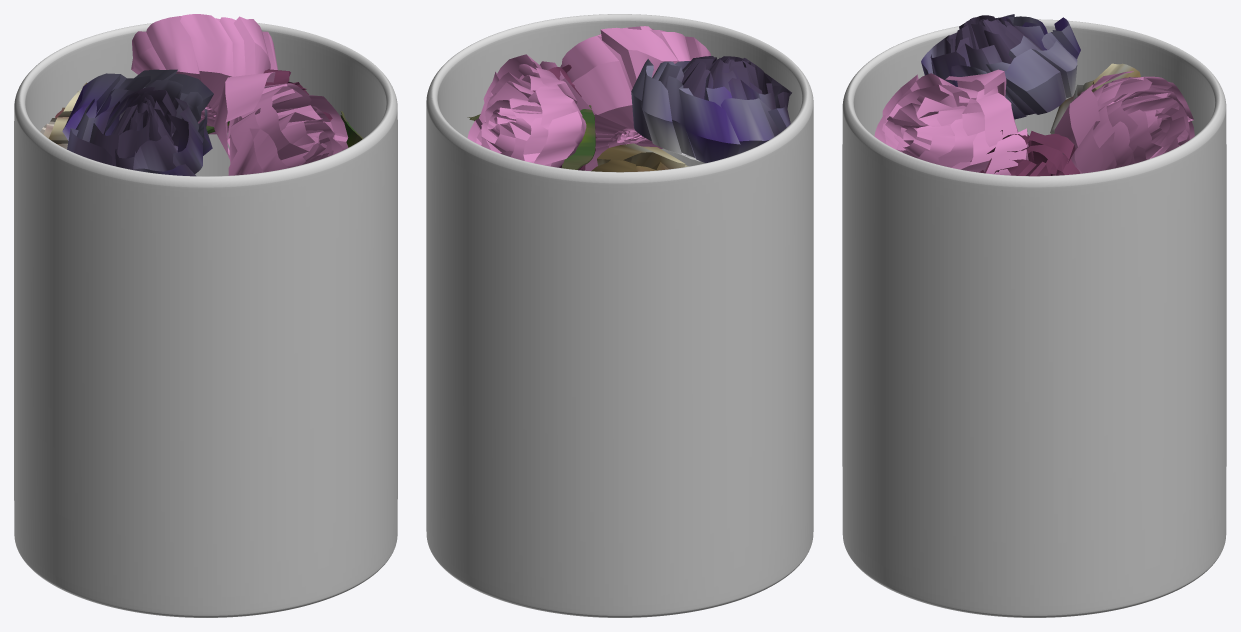
Rendered from glassJar_combo.648dd550.glb.
3 renders of one model, left to right at view 1: azimuth 30°, elevation 25°; view 2: azimuth 150°, elevation 25°; view 3: azimuth 270°, elevation 25°, orthographic.
Visible parts, largest first — view 1: RoseJar; view 2: RoseJar; view 3: RoseJar.
Boxes of the visible parts, x1,y1,x2,y2 form: RoseJar: (14, 14, 397, 617); RoseJar: (426, 14, 813, 617); RoseJar: (842, 14, 1226, 617).
Size of the model in its own units: 0.2464 by 0.3437 by 0.2464.
